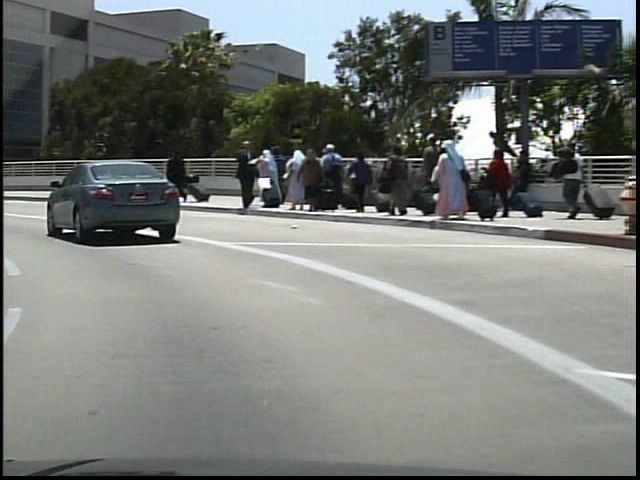person: (548, 138, 583, 224), (229, 137, 255, 212), (162, 146, 190, 212), (232, 146, 256, 210), (171, 153, 190, 196)
